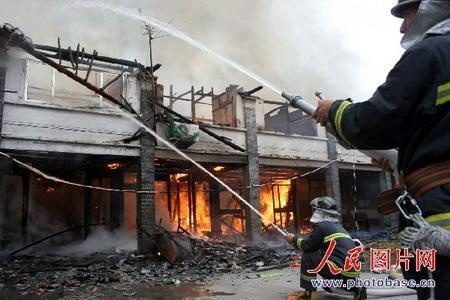fire: (163, 167, 213, 235), (259, 172, 295, 227)
